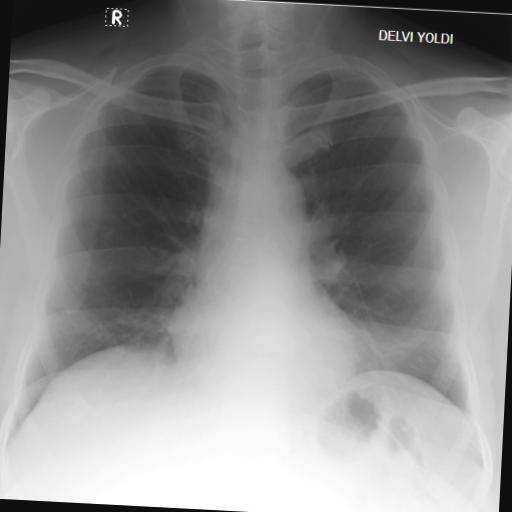normal: (0, 23, 512, 494)
